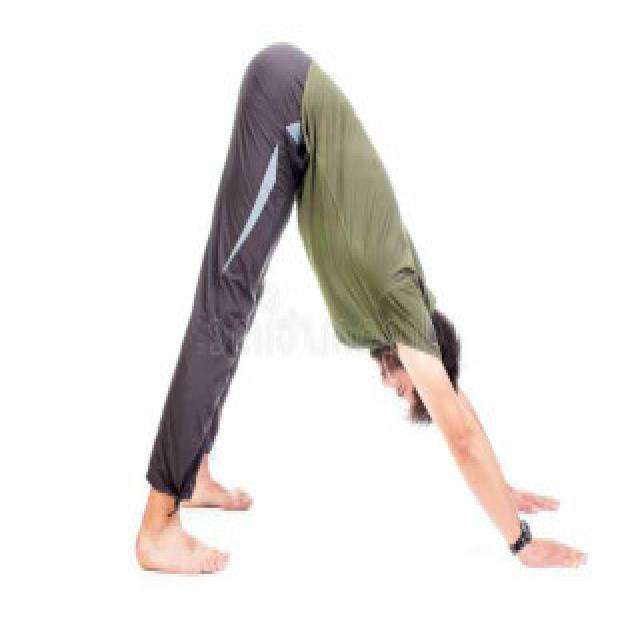yoga-pose downward: (130, 32, 582, 579)
